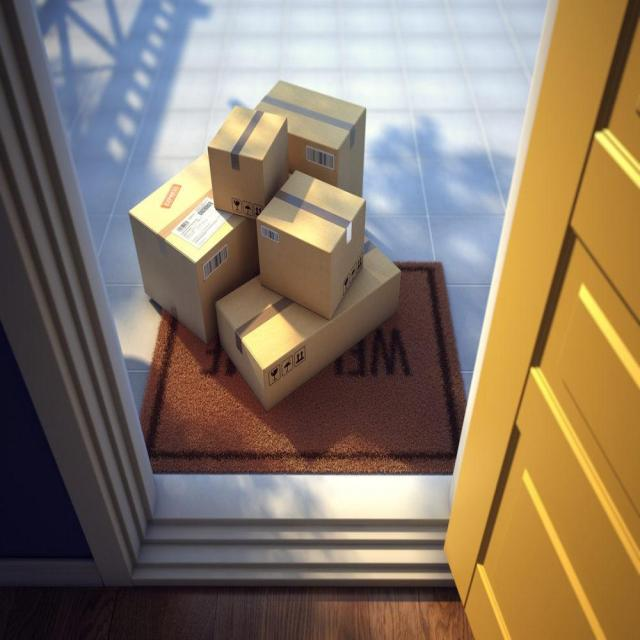Pathole: (214, 228, 403, 419), (126, 145, 271, 342), (254, 169, 369, 321), (205, 101, 289, 221)
